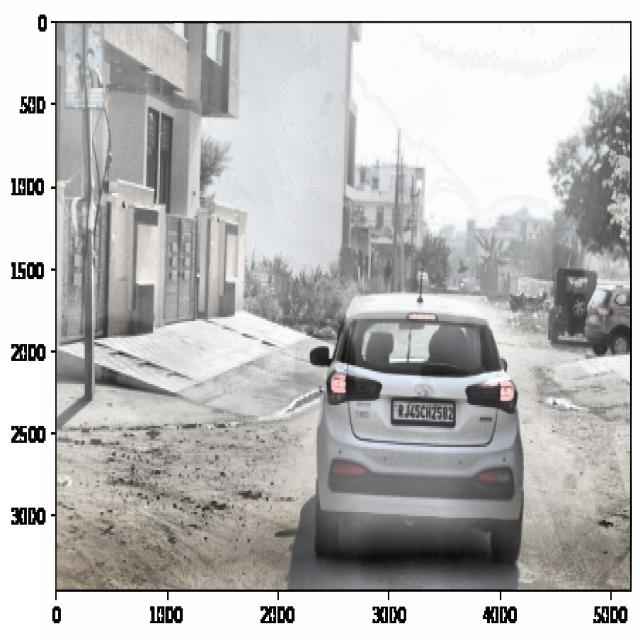license_plate: (392, 399, 454, 426)
